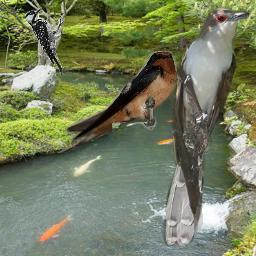Cuckoo: (162, 5, 252, 246)
Swallow: (52, 51, 177, 153)
Woodpecker: (24, 7, 65, 80)
